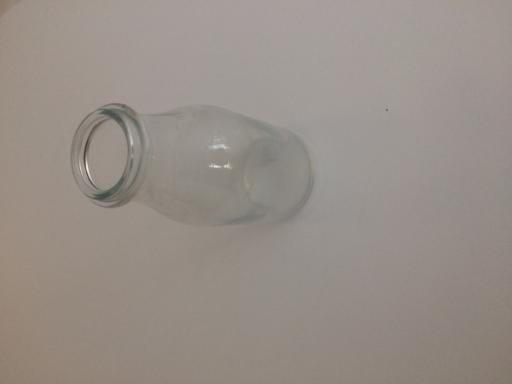botolkaca: (72, 103, 315, 224)
